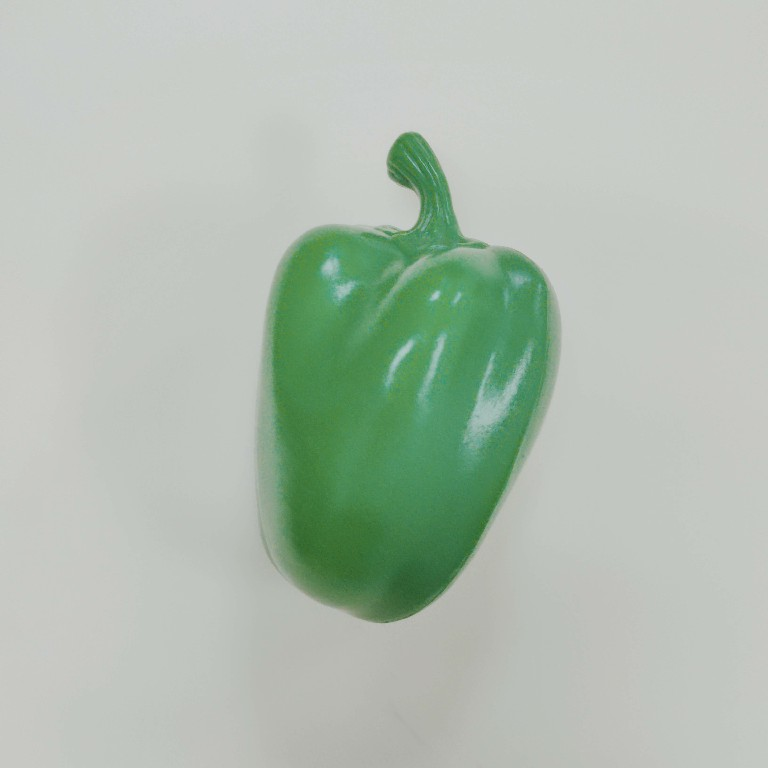fruit_pepper: (247, 129, 566, 631)
